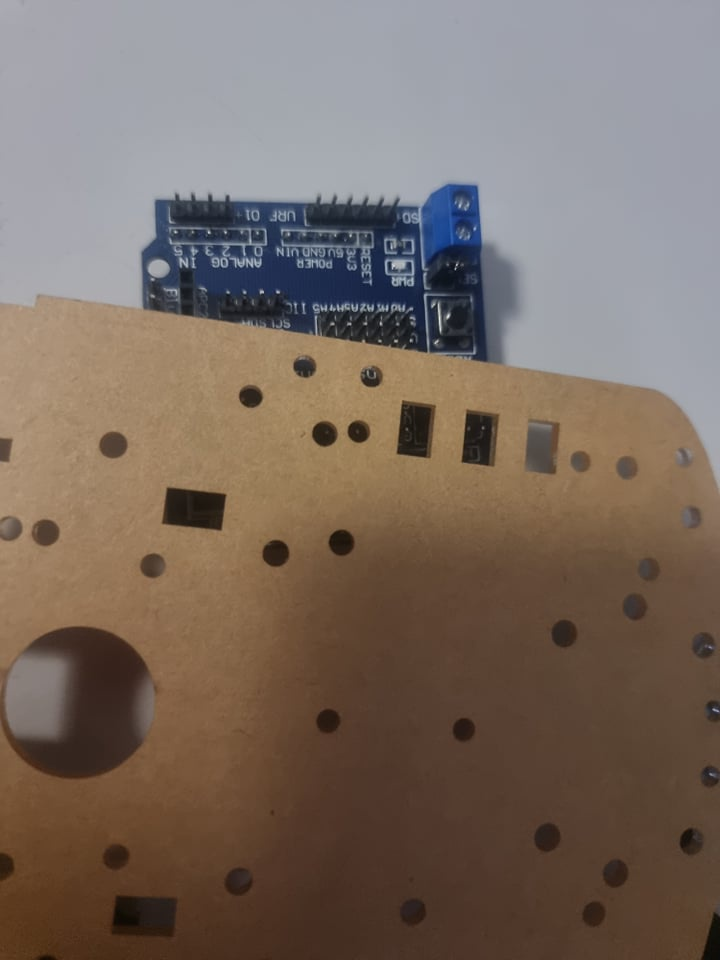5V EXPANSION: (128, 180, 497, 362)
